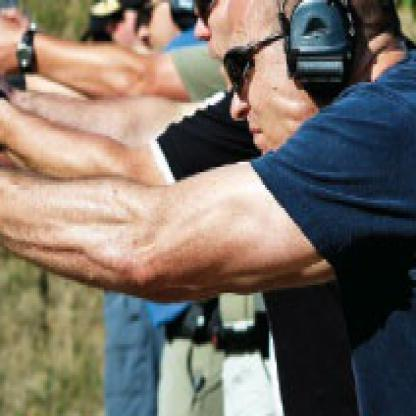gun: (0, 0, 22, 90)
